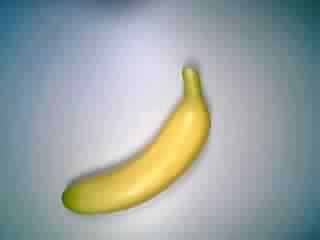banana: (57, 64, 216, 221)
